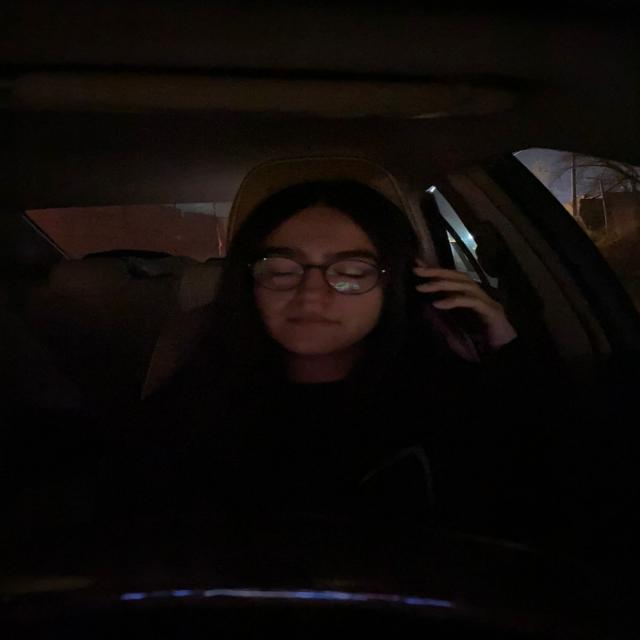mobile: (402, 267, 499, 365)
person: (255, 207, 386, 360)
